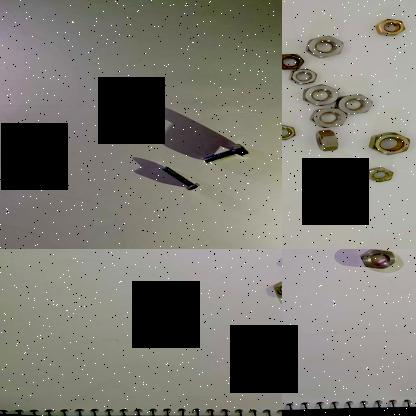Bolts: (199, 140, 253, 168), (156, 162, 204, 190)
NUTS: (366, 128, 414, 156), (332, 90, 377, 118), (306, 32, 347, 58), (306, 106, 350, 128), (302, 82, 340, 106), (358, 249, 398, 270), (372, 15, 407, 38), (314, 127, 342, 154), (288, 66, 321, 86), (334, 174, 364, 194), (320, 163, 353, 181), (364, 166, 396, 184), (282, 51, 308, 71), (282, 123, 298, 141), (269, 279, 282, 298)
